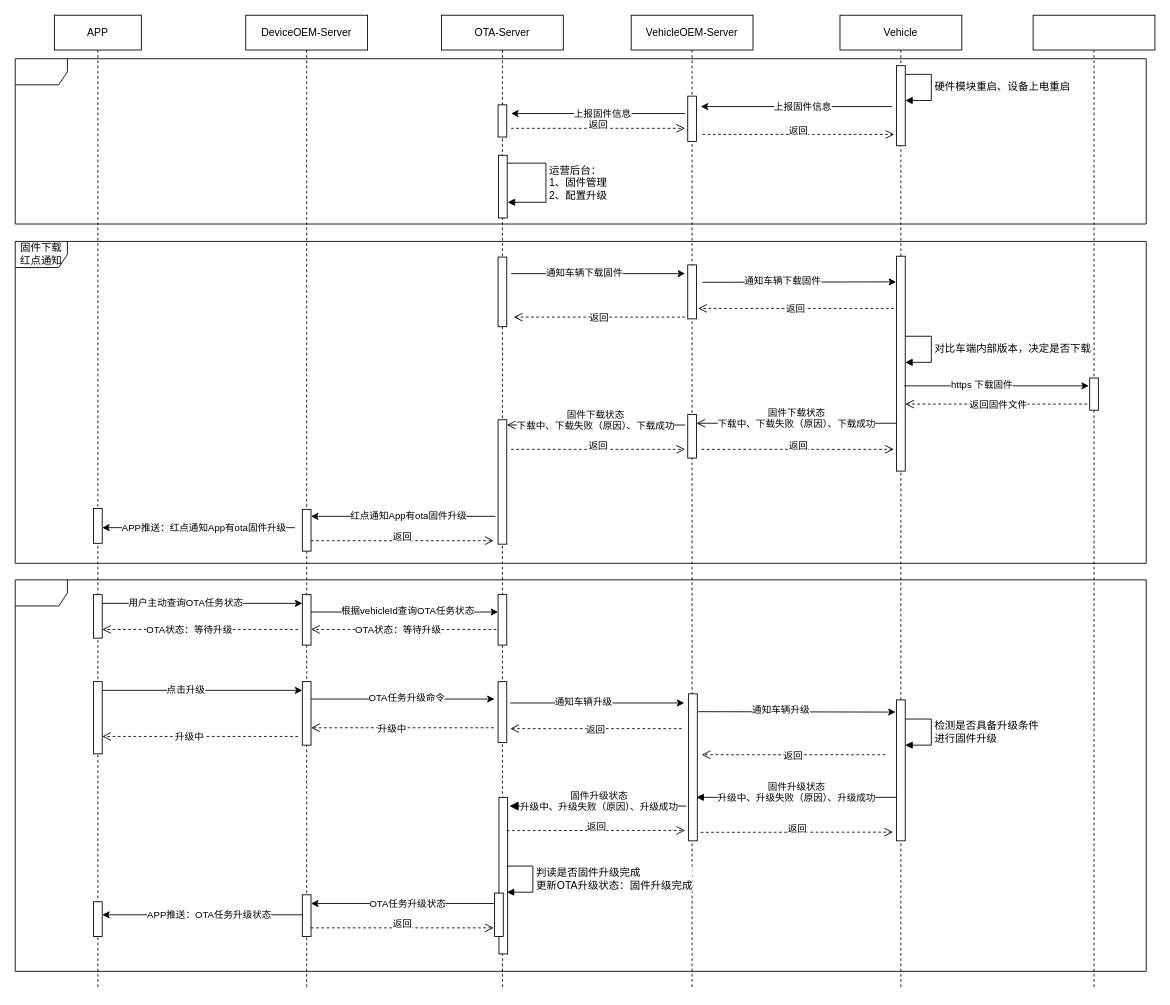
The diagram is 1170 pixels wide and 1005 high, and some of its shapes have lost their labels. The shapes that lost their labels are listed below. From the top down, each one's box as (x1, y1, x2, y2) in pixels, then its label:
(14, 58, 1146, 224): 配置OTA升级计划
(1032, 14, 1155, 990): FTP服务器
(14, 579, 1146, 971): OTA固件升级过程
